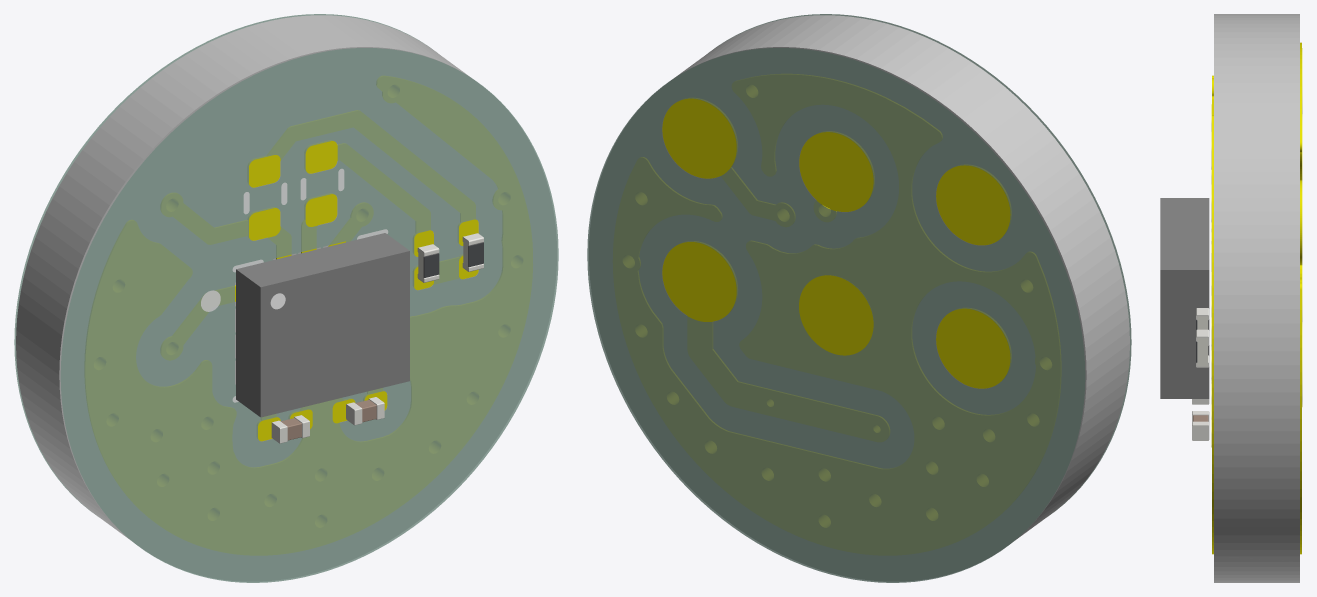
Rendered from compact_IMU.glb.
The picture shows the model from 3 angles, left to right: view 1: azimuth 30°, elevation 25°; view 2: azimuth 150°, elevation 25°; view 3: azimuth 270°, elevation 25°; orthographic projection.
Visible parts, largest first — view 1: Compact_IMU; view 2: Compact_IMU; view 3: Compact_IMU.
Part boxes in pixels (x1,y1,x2,y2): Compact_IMU: [14, 14, 558, 582]; Compact_IMU: [587, 14, 1131, 582]; Compact_IMU: [1160, 14, 1302, 582].
Size of the model in its own units: 10 by 10 by 2.5.
